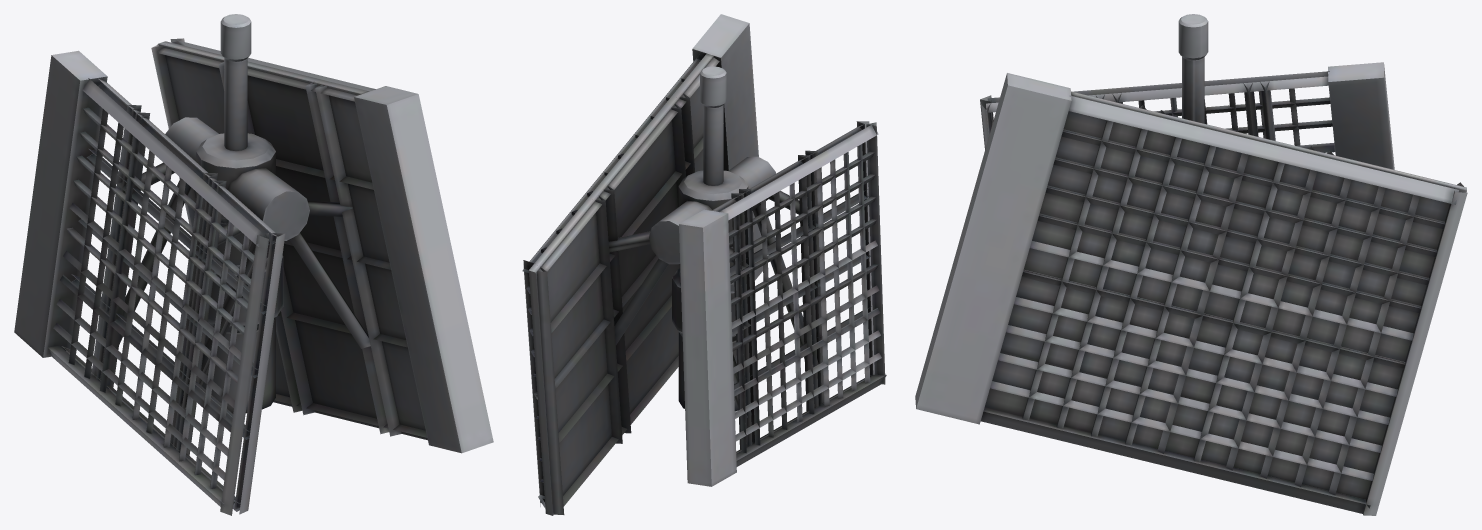
File: frigate_radar1.gltf
3 renders of one model, left to right at view 1: azimuth 30°, elevation 25°; view 2: azimuth 150°, elevation 25°; view 3: azimuth 270°, elevation 25°, orthographic. The views are drawn at different scales.
Visible parts, largest first — view 1: atas; view 2: atas; view 3: atas.
Boxes of the visible parts, left/top/right/bottom form: atas: left=14, top=14, right=493, bottom=515; atas: left=522, top=14, right=886, bottom=515; atas: left=915, top=14, right=1467, bottom=515.
Size of the model in its own units: 2.42 by 4.78 by 5.33.
Materials: 1 (1 with a texture image).
